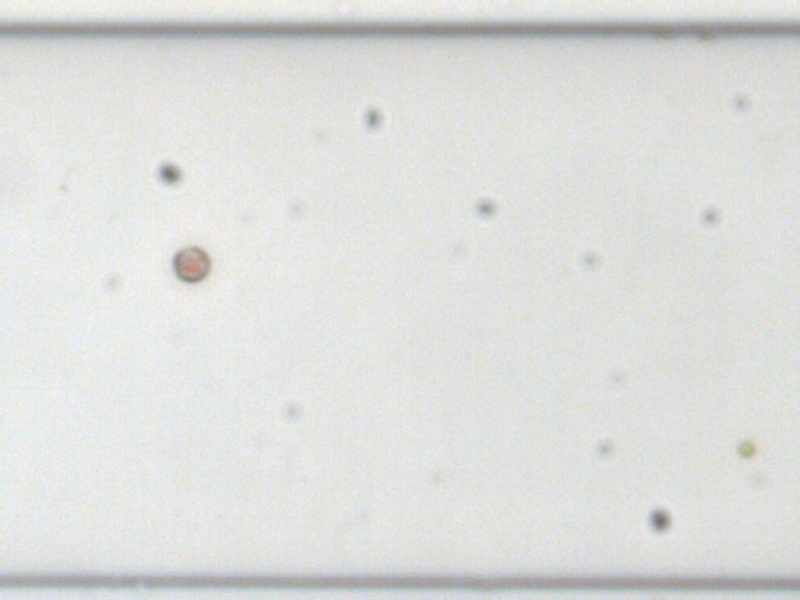Chlorella: (734, 440, 756, 457)
Porphyridium: (172, 246, 212, 282)
